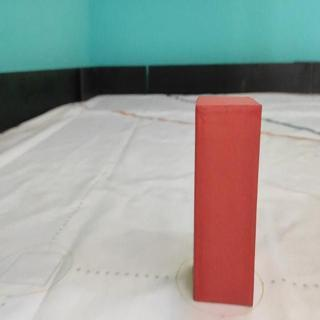redbox: (193, 96, 258, 307)
